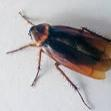cockroach: (28, 22, 110, 80)
